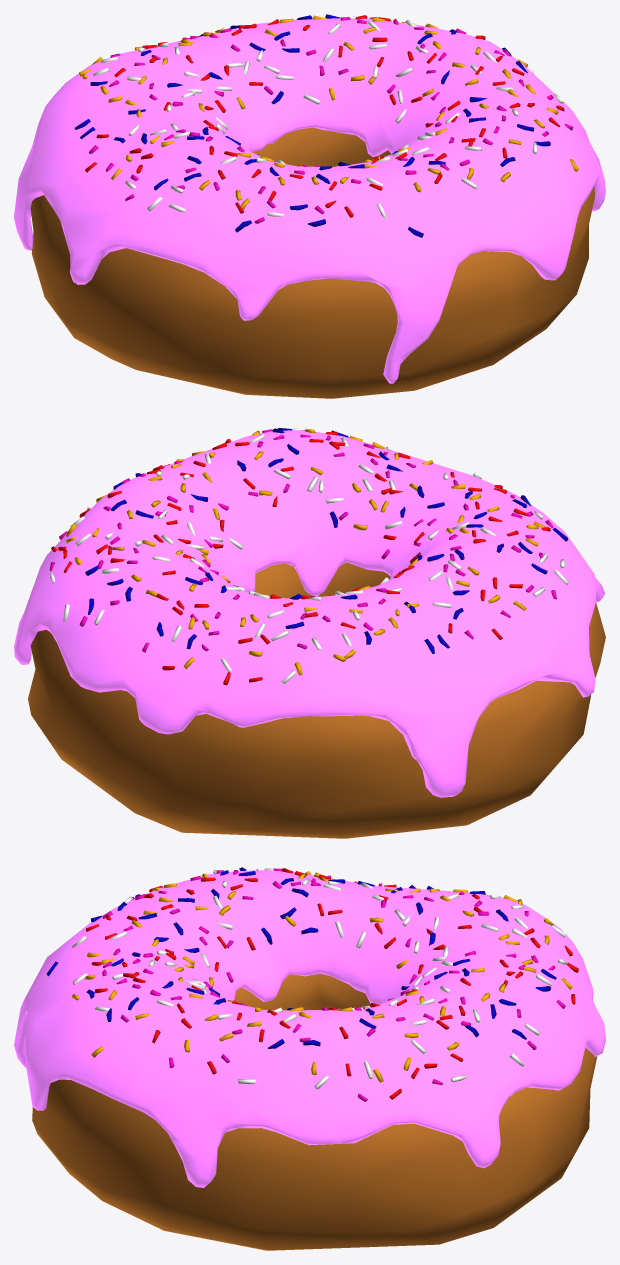
3 views of the same model, one above another, from view 1: azimuth 30°, elevation 25°; view 2: azimuth 150°, elevation 25°; view 3: azimuth 270°, elevation 25° (orthographic).
Parts seen in each view (by area): view 1: icing, donut; view 2: icing, donut; view 3: icing, donut.
Part boxes in pixels (left/top/right/bottom): icing: left=14, top=18, right=605, bottom=383; donut: left=30, top=127, right=595, bottom=398; icing: left=14, top=430, right=604, bottom=797; donut: left=28, top=562, right=605, bottom=838; icing: left=14, top=870, right=605, bottom=1187; donut: left=32, top=973, right=597, bottom=1250.
Size of the model in its own units: 0.2569 by 0.116 by 0.2581.
